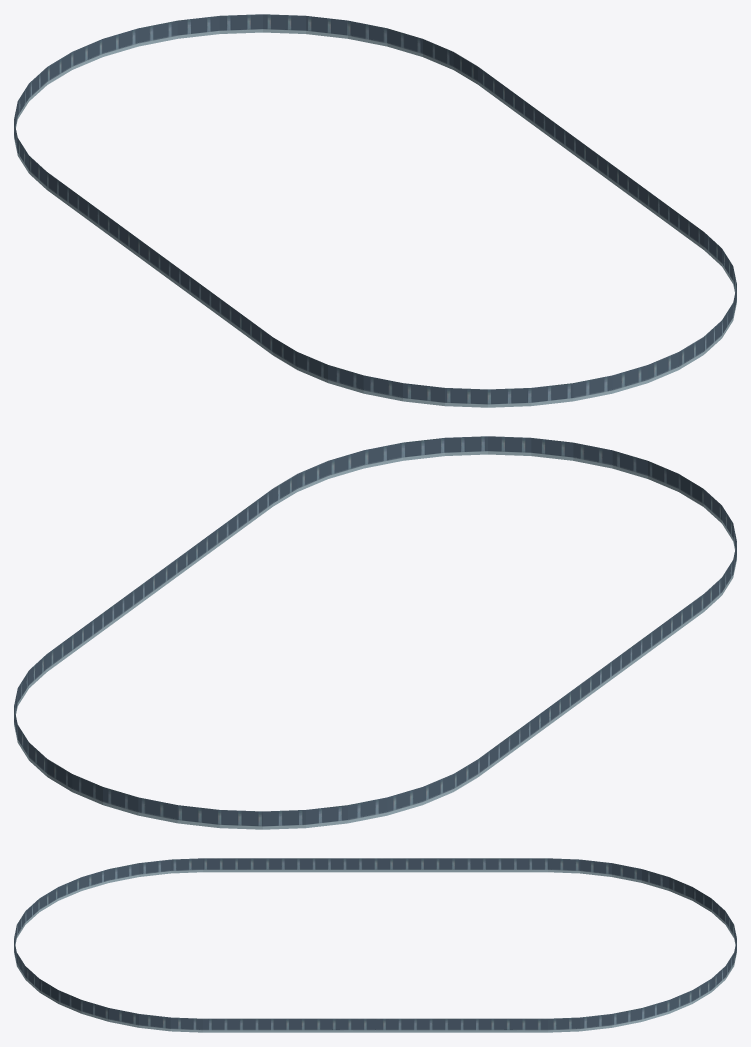
The model's file is Mesh_Battle_Match_Railing_02.fbx.
3 views of the same model, one above another, from view 1: azimuth 30°, elevation 25°; view 2: azimuth 150°, elevation 25°; view 3: azimuth 270°, elevation 25° (orthographic). The views are drawn at different scales.
Parts seen in each view (by area): view 1: Mesh_Battle_Match_Railing_02; view 2: Mesh_Battle_Match_Railing_02; view 3: Mesh_Battle_Match_Railing_02.
Boxes of the visible parts, left/top/right/bottom form: Mesh_Battle_Match_Railing_02: left=14, top=14, right=736, bottom=407; Mesh_Battle_Match_Railing_02: left=14, top=436, right=736, bottom=829; Mesh_Battle_Match_Railing_02: left=14, top=858, right=736, bottom=1032.
Bounding box in the file's own units: 11759 × 477 × 22394.
